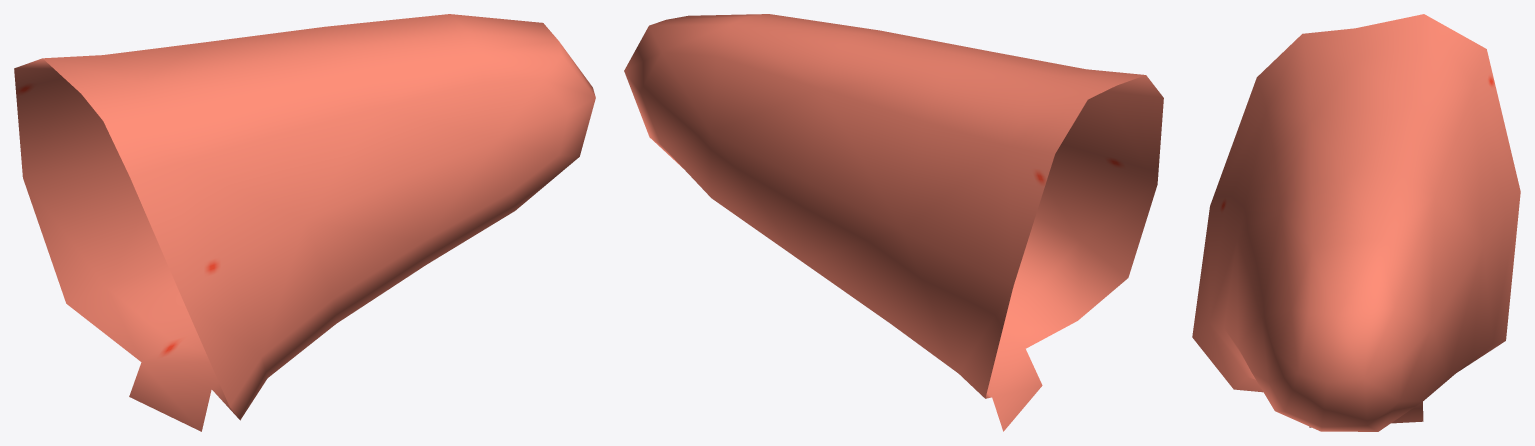
File: patrickleftfin.obj
3 renders of one model, left to right at view 1: azimuth 30°, elevation 25°; view 2: azimuth 150°, elevation 25°; view 3: azimuth 270°, elevation 25°, orthographic. The views are drawn at different scales.
Visible parts, largest first — view 1: Patrick.001; view 2: Patrick.001; view 3: Patrick.001.
Part boxes in pixels (<box>): Patrick.001: <box>14,14,595,431</box>; Patrick.001: <box>624,14,1163,431</box>; Patrick.001: <box>1192,14,1520,431</box>.
Size of the model in its own units: 1.65 by 1.13 by 0.92.
1 material, 1 textured.
